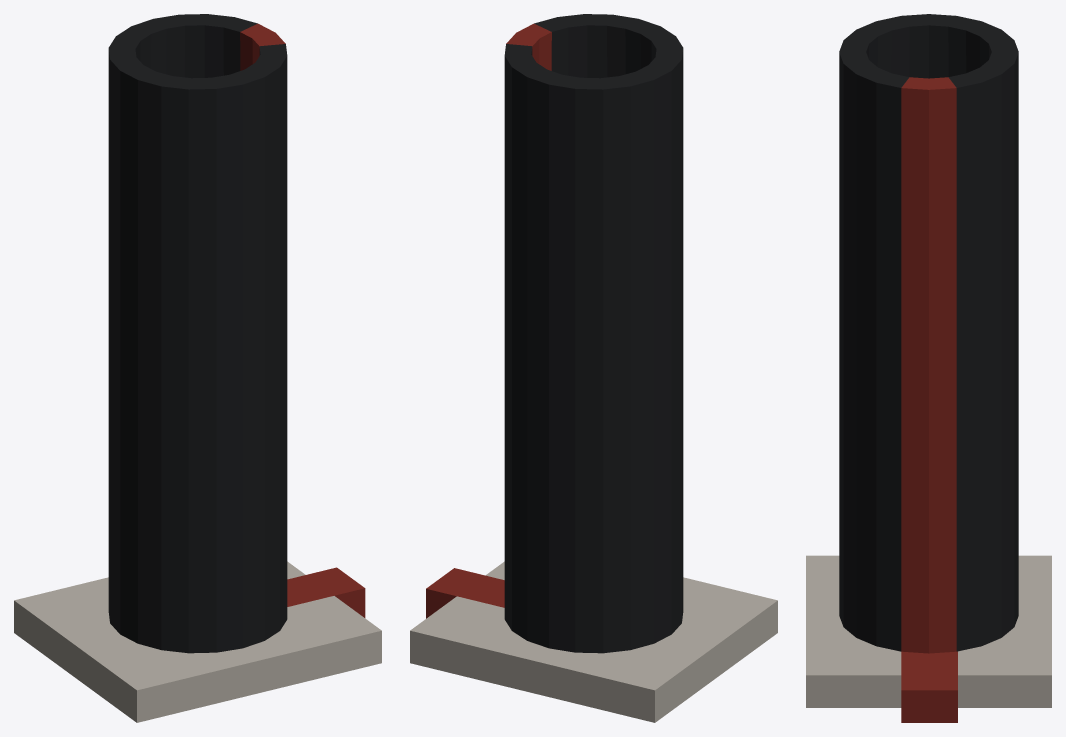
File: WiteSparkleTube3.fbx
3 views of the same model, side by side, from view 1: azimuth 30°, elevation 25°; view 2: azimuth 150°, elevation 25°; view 3: azimuth 270°, elevation 25° (orthographic).
Parts seen in each view (by area): view 1: Cylinder, Cube; view 2: Cylinder, Cube; view 3: Cylinder, Cube.
Part boxes in pixels (bbox=[...]): Cylinder: bbox=[108, 14, 287, 653]; Cube: bbox=[14, 561, 381, 722]; Cylinder: bbox=[504, 14, 683, 653]; Cube: bbox=[410, 561, 777, 722]; Cylinder: bbox=[839, 14, 1018, 653]; Cube: bbox=[806, 555, 1051, 722].
Bounding box in the file's own units: 35.46 × 73.23 × 27.37.
